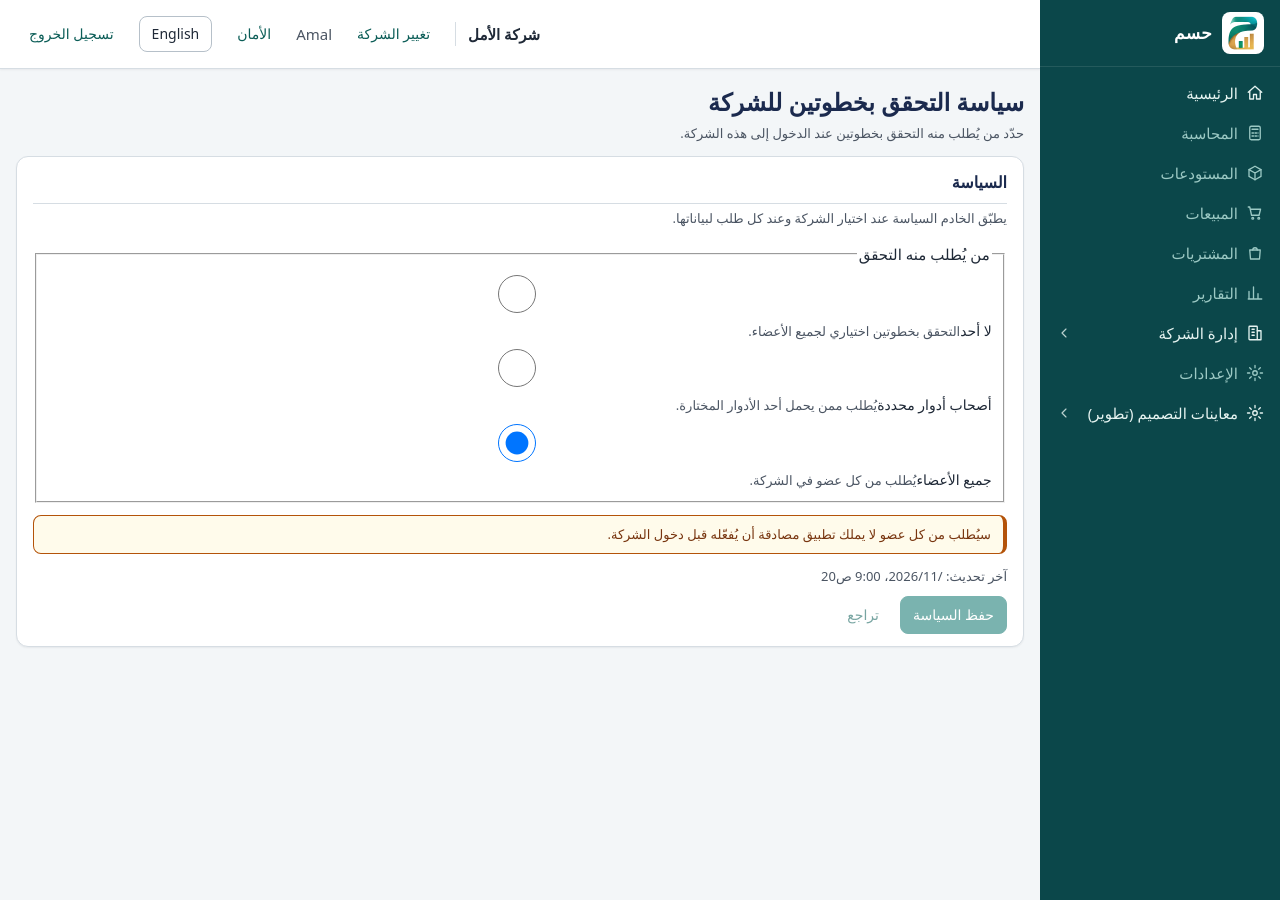
company MFA policy screen › shows the saved policy and, with the update permission, lets it be changed; 'off' saves with no warning dialog
Check: the element with test id "company-name" is shown, box x1=455 y1=22 x2=540 y2=46
Check: the heading "سياسة التحقق بخطوتين للشركة" is shown, box x1=680 y1=85 x2=1024 y2=119
Click the 1st radio button at {"x": 517, "y": 294}, box x1=45 y1=275 x2=989 y2=313
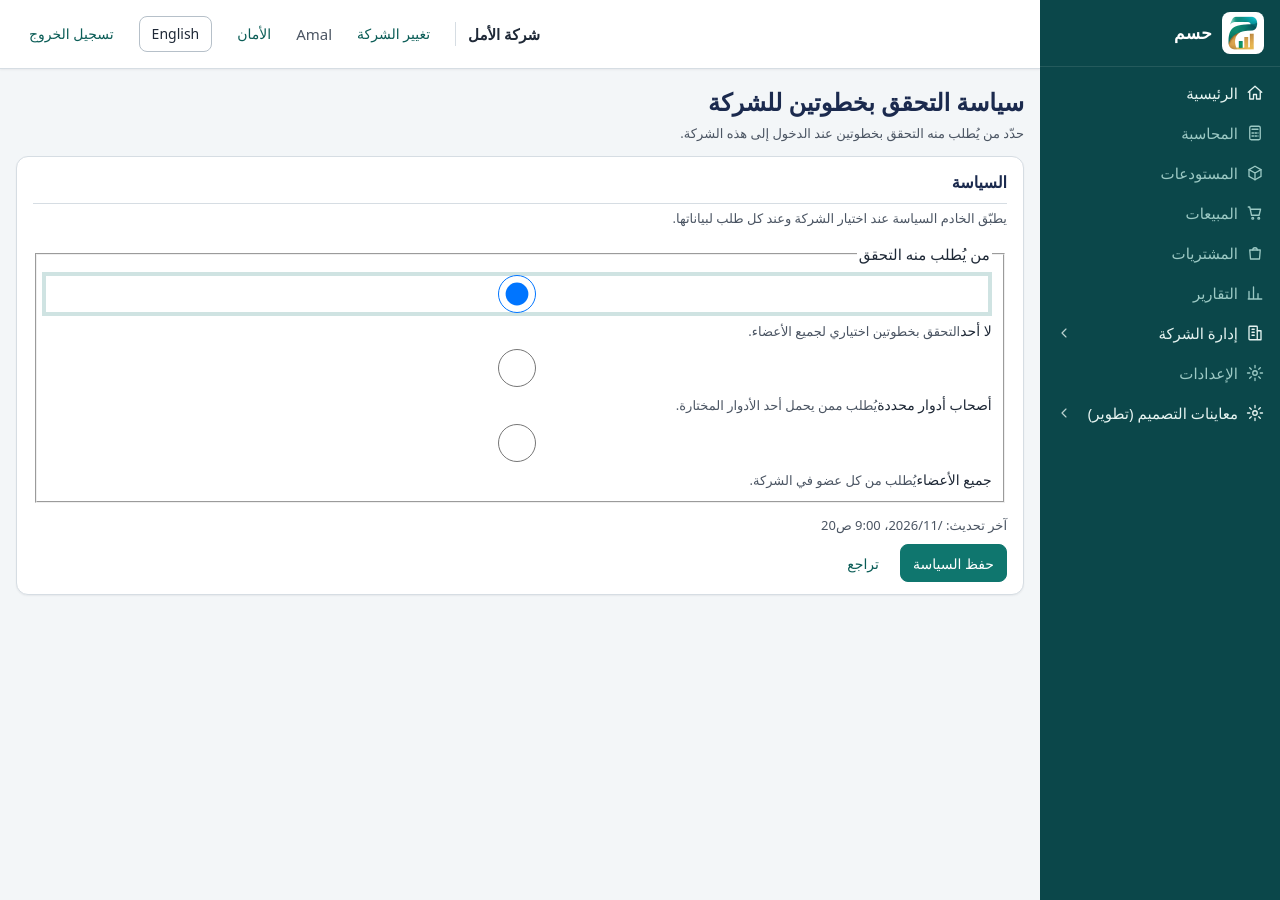
Check: the message with test id "mfapolicy-warning" is gone
Click the button with test id "mfapolicy-save" at {"x": 954, "y": 563}, box x1=900 y1=544 x2=1007 y2=582
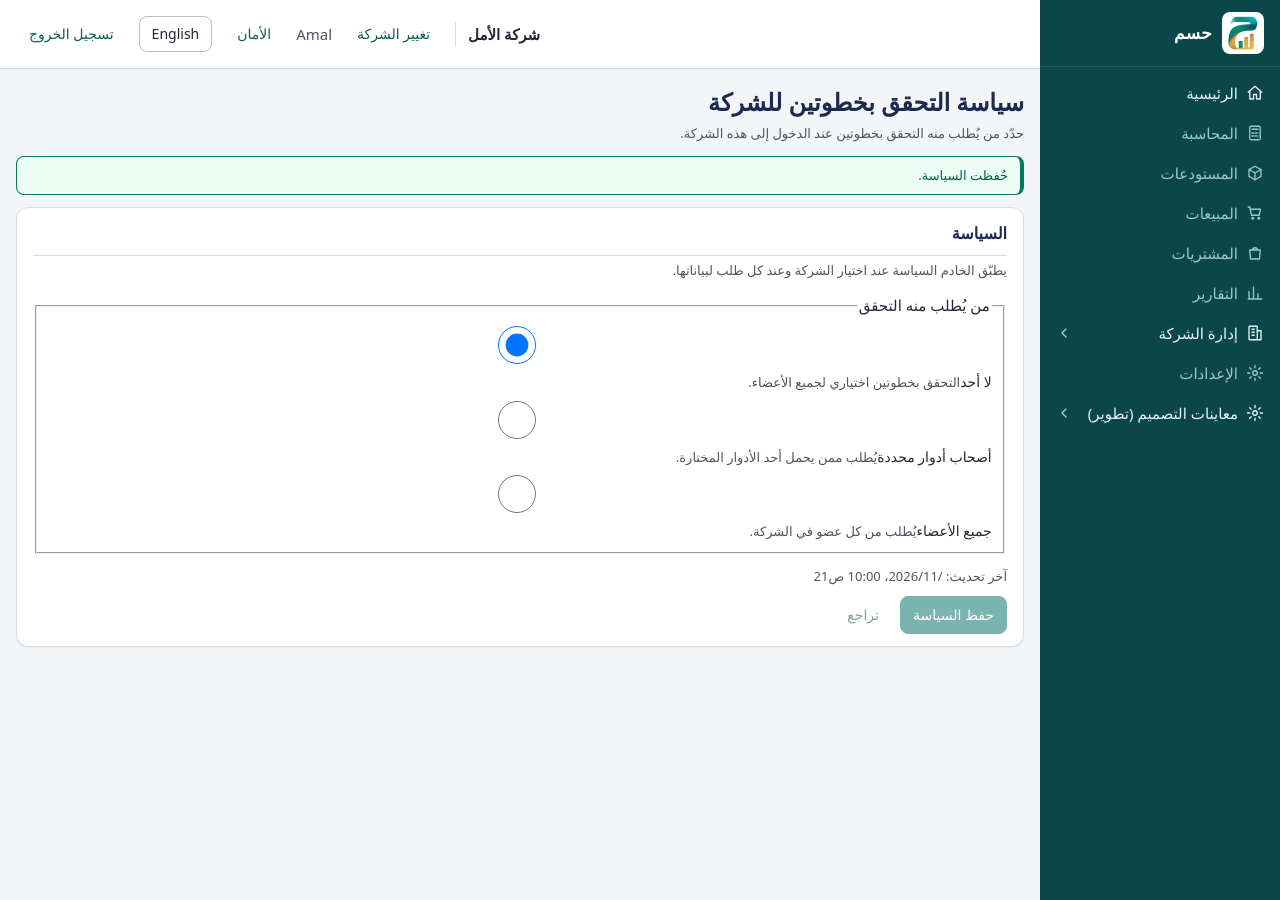
Check: the message with test id "mfapolicy-notice" reads "حُفظت السياسة.", box x1=918 y1=166 x2=1008 y2=184
